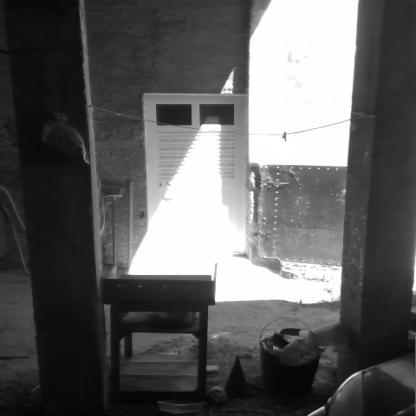closed: (138, 83, 266, 267)
